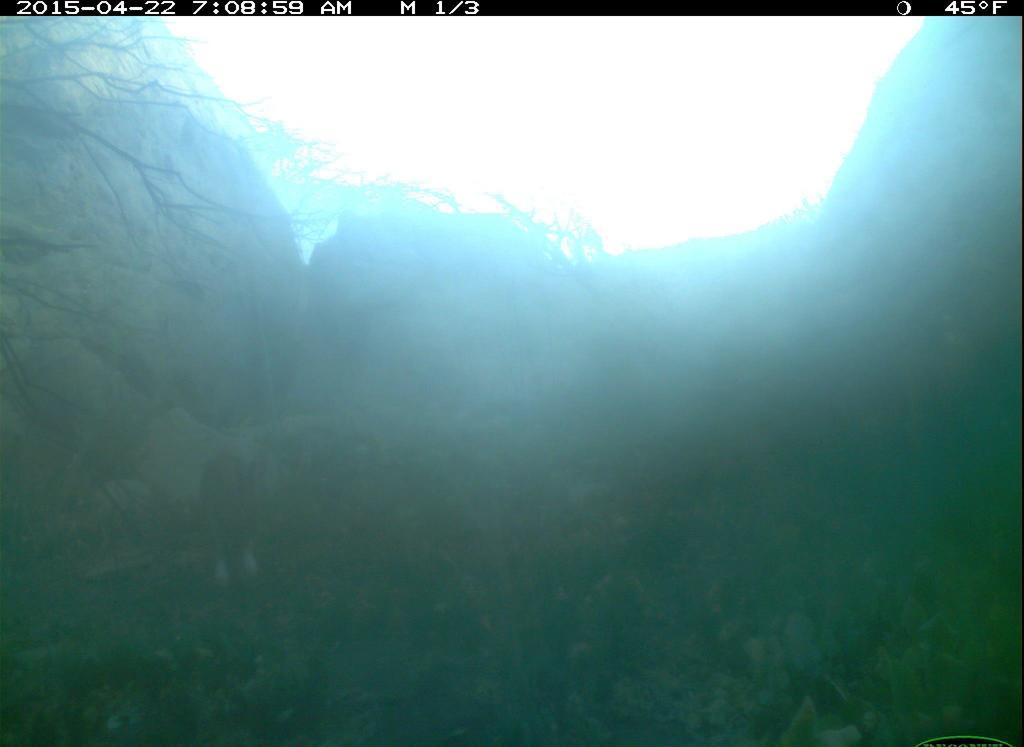rabbit: (175, 427, 297, 593)
